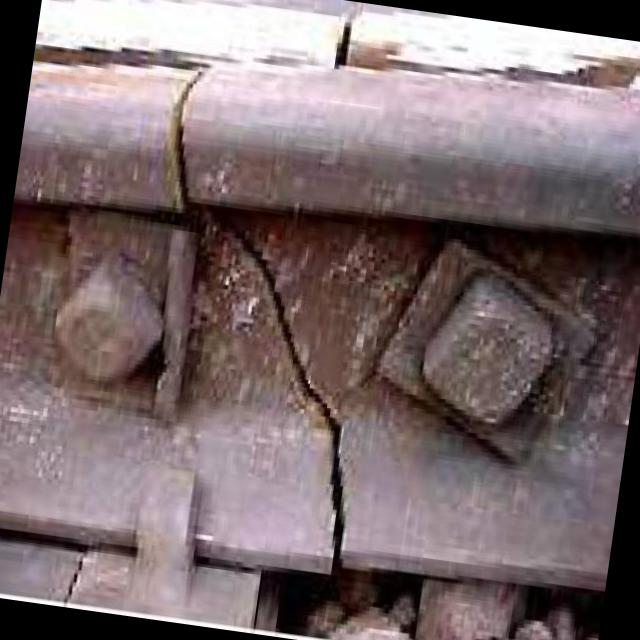defective: (27, 0, 529, 621)
